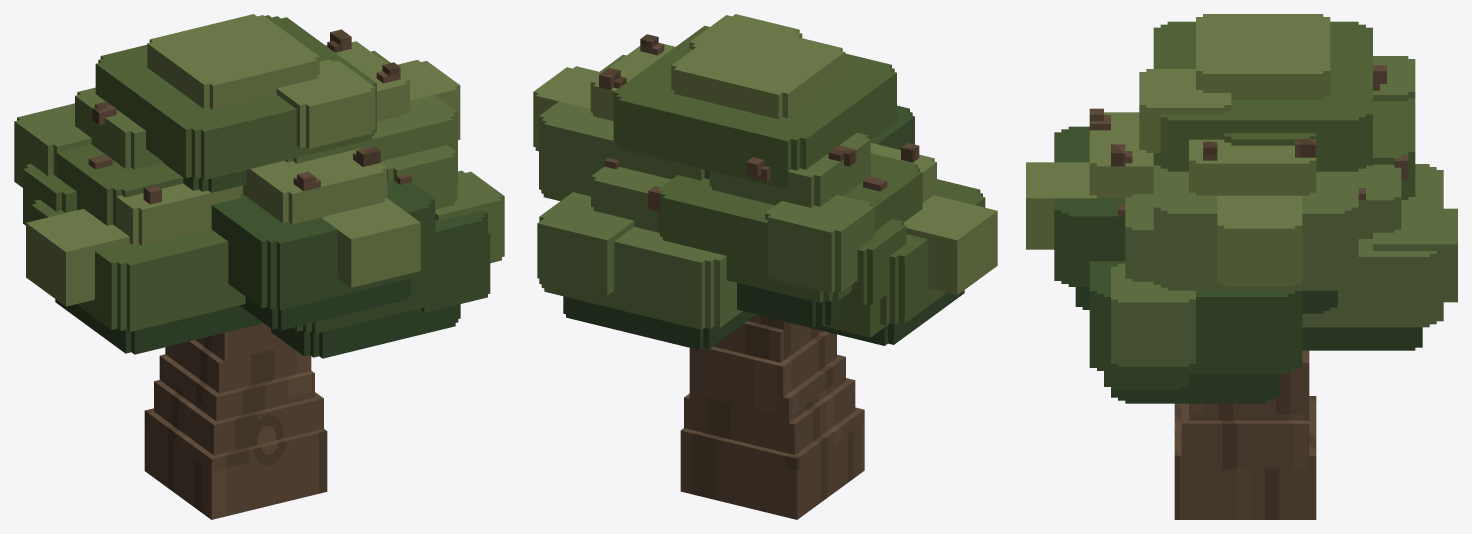
The model's file is apple_ancient_2.glb.
The picture shows the model from 3 angles, left to right: view 1: azimuth 30°, elevation 25°; view 2: azimuth 150°, elevation 25°; view 3: azimuth 270°, elevation 25°; orthographic projection. The views are drawn at different scales.
Visible parts, largest first — view 1: VoxelVisual; view 2: VoxelVisual; view 3: VoxelVisual.
Part boxes in pixels (left/top/right/bottom): VoxelVisual: left=14, top=14, right=504, bottom=519; VoxelVisual: left=533, top=14, right=997, bottom=519; VoxelVisual: left=1026, top=14, right=1457, bottom=519.
Size of what is drawn, in the model's own units: 17.75 by 17.5 by 15.25.
